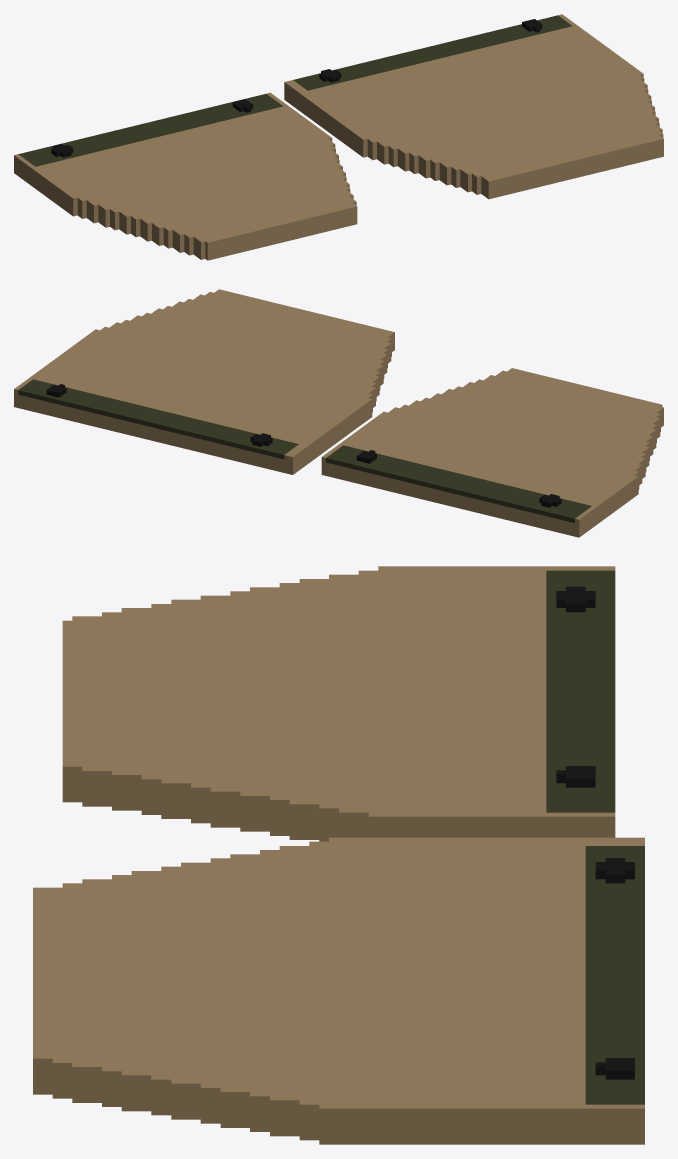
The model's file is ballistic_groin_protector.glb.
3 views of the same model, one above another, from view 1: azimuth 30°, elevation 25°; view 2: azimuth 150°, elevation 25°; view 3: azimuth 270°, elevation 25° (orthographic). The views are drawn at different scales.
Visible parts, largest first — view 1: ballistic_groin_protector:compound; view 2: ballistic_groin_protector:compound; view 3: ballistic_groin_protector:compound.
Part boxes in pixels (<box>): ballistic_groin_protector:compound: <box>14,14,663,260</box>; ballistic_groin_protector:compound: <box>14,289,663,537</box>; ballistic_groin_protector:compound: <box>33,566,644,1144</box>.
Size of the model in its own units: 0.52 by 0.02 by 0.248.
